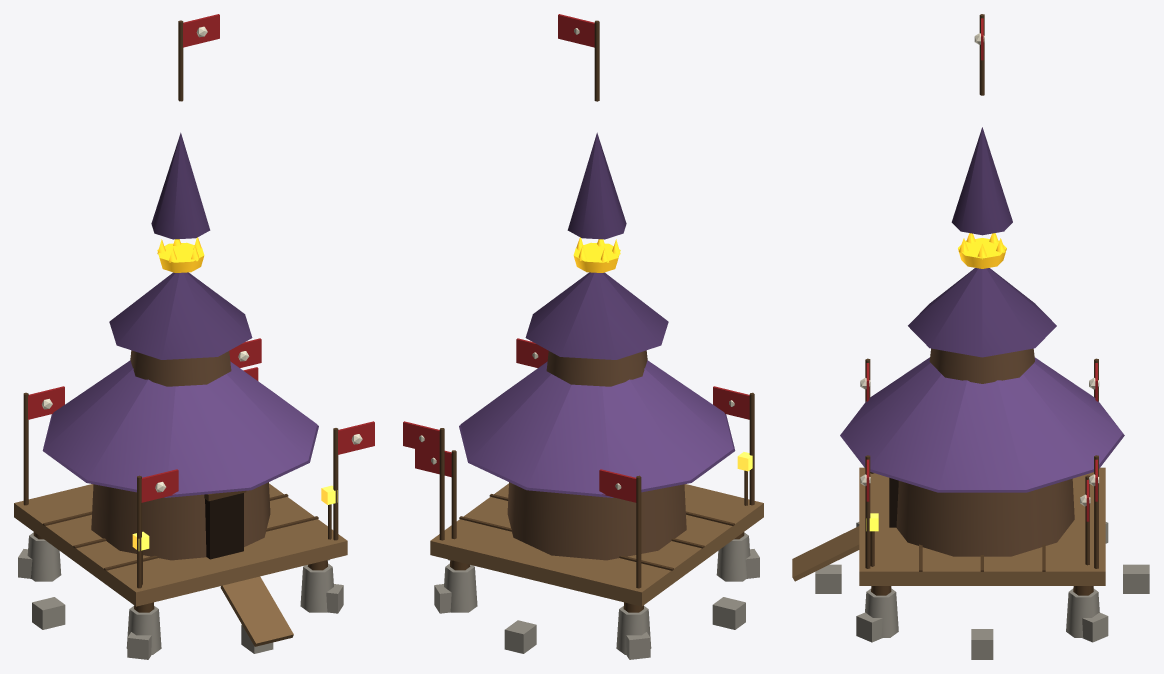
The model's file is goblin-level5.glb.
3 renders of one model, left to right at view 1: azimuth 30°, elevation 25°; view 2: azimuth 150°, elevation 25°; view 3: azimuth 270°, elevation 25°, orthographic.
Bounding box in the file's own units: 3.8 × 7.21 × 4.06.
